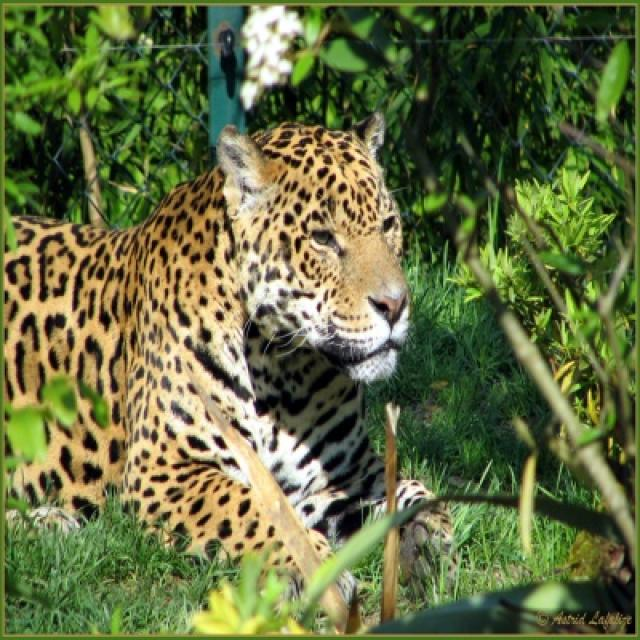Jaguar: (0, 114, 413, 594)
